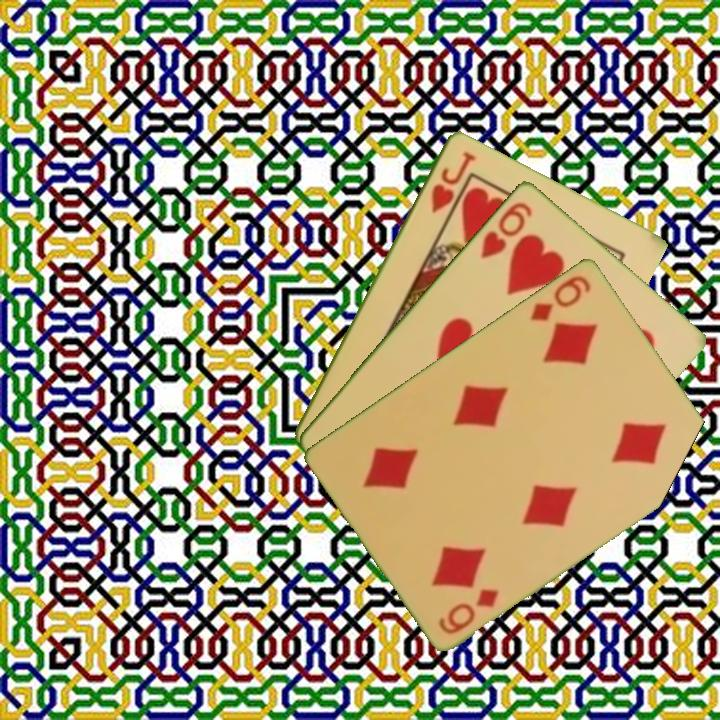6d: (526, 271, 594, 324), (434, 584, 502, 637)
6h: (476, 198, 535, 261)
Jh: (427, 147, 478, 216)
